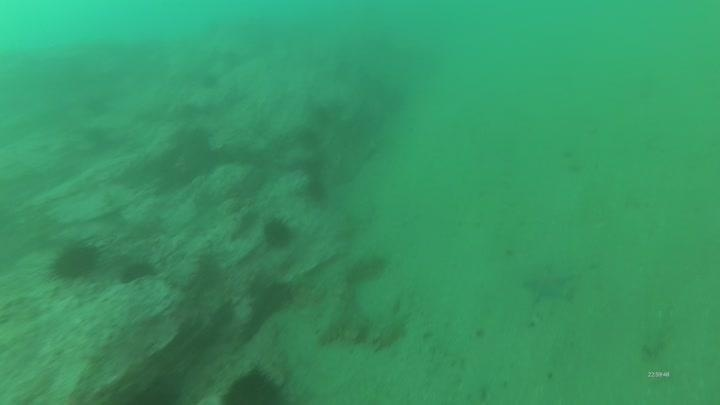echinus: (216, 366, 286, 405), (48, 238, 103, 283), (260, 214, 297, 251), (118, 256, 158, 287), (297, 175, 335, 201), (201, 72, 222, 93), (219, 49, 242, 67)
starfish: (521, 264, 577, 306)
